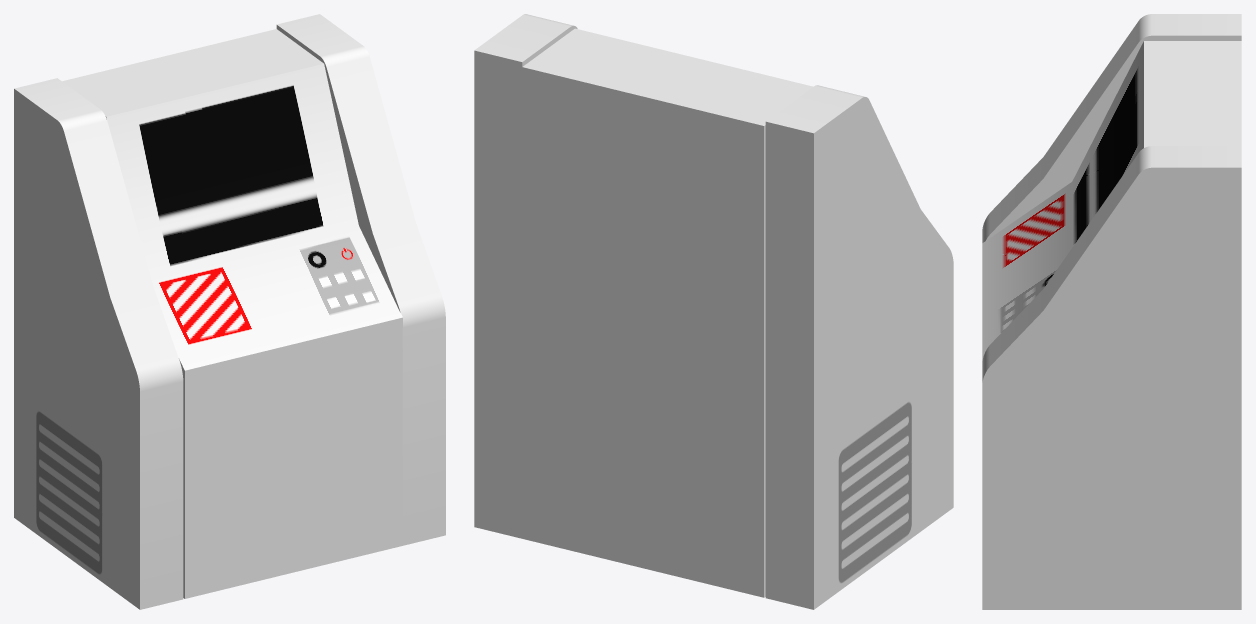
The model's file is futuristic_computer.fbx.
3 renders of one model, left to right at view 1: azimuth 30°, elevation 25°; view 2: azimuth 150°, elevation 25°; view 3: azimuth 270°, elevation 25°, orthographic. The views are drawn at different scales.
Visible parts, largest first — view 1: Computer; view 2: Computer; view 3: Computer.
Boxes of the visible parts, <box> form: Computer: <box>14,14,445,609</box>; Computer: <box>474,14,953,609</box>; Computer: <box>982,14,1241,609</box>.
Size of the model in its own units: 163 by 219 by 116.
